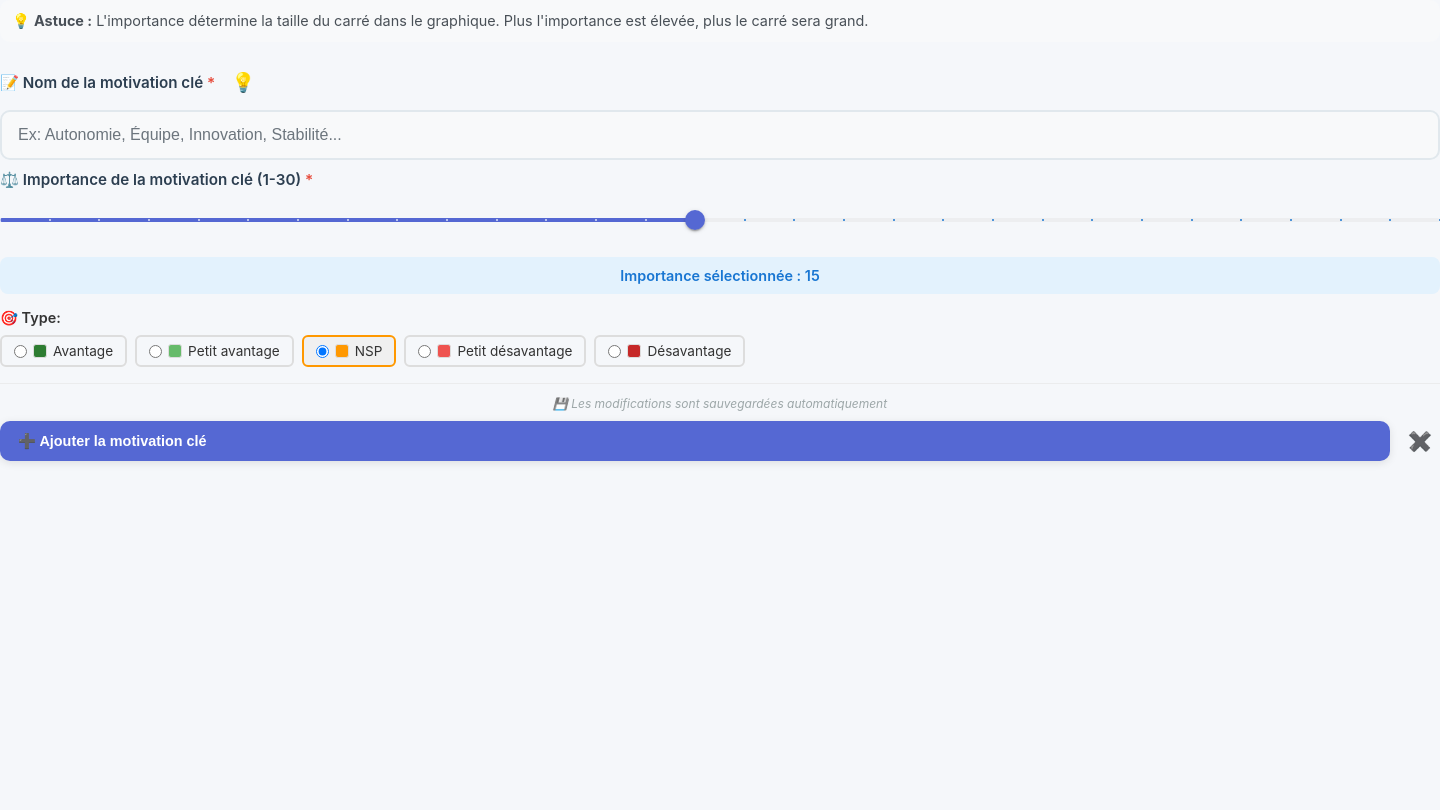
Test: CritereForm › should open suggestions modal when icon is clicked
This screenshot has width=1440, height=810.
Click the button named "voir les suggestions". click: (243, 82)
box: x1=223 y1=62 x2=263 y2=102
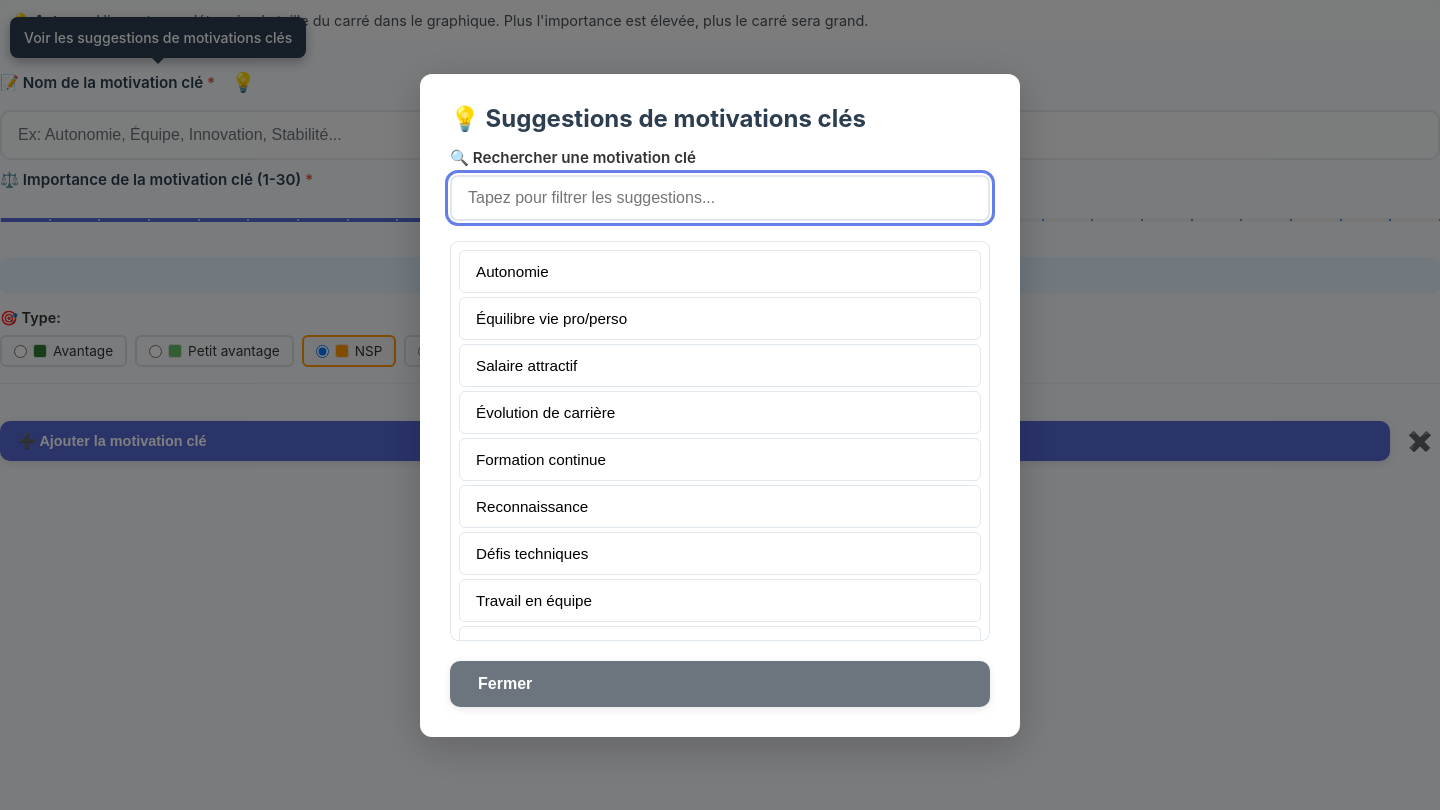
Check: the heading "💡 Suggestions de motivations clés" is shown, box x1=450 y1=104 x2=866 y2=132
